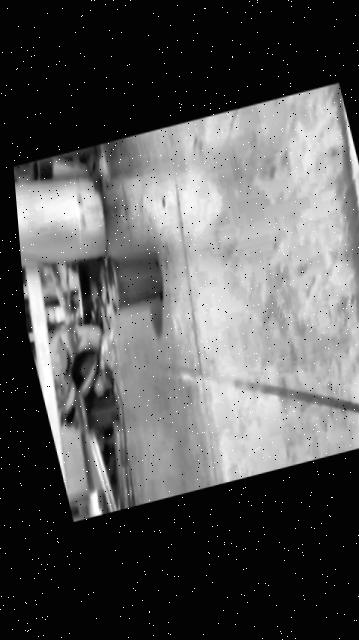pot: (95, 243, 167, 320)
